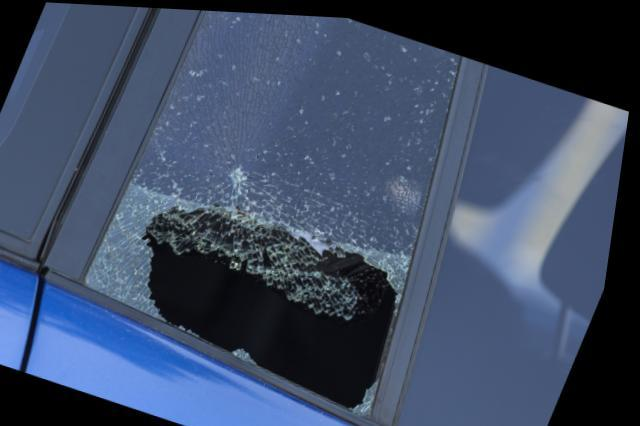glass shatter: (89, 8, 463, 417)
